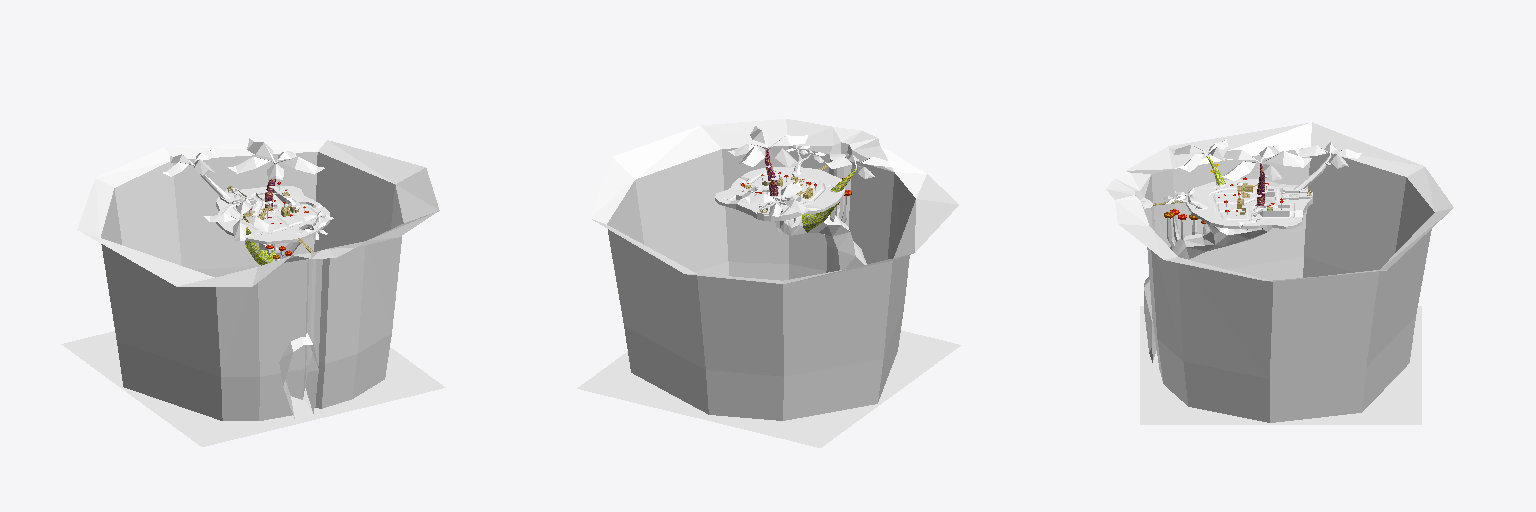
3 views of the same model, side by side, from view 1: azimuth 30°, elevation 25°; view 2: azimuth 150°, elevation 25°; view 3: azimuth 270°, elevation 25° (orthographic).
Visible parts, largest first — view 1: Mesh_test; view 2: Mesh_test; view 3: Mesh_test.
Part boxes in pixels (x1,y1,x2,y2): Mesh_test: (61, 138, 445, 446); Mesh_test: (577, 119, 960, 447); Mesh_test: (1106, 122, 1453, 424).
Size of the model in its own units: 53.6 by 34.6 by 49.64.
33 materials, 9 textured.